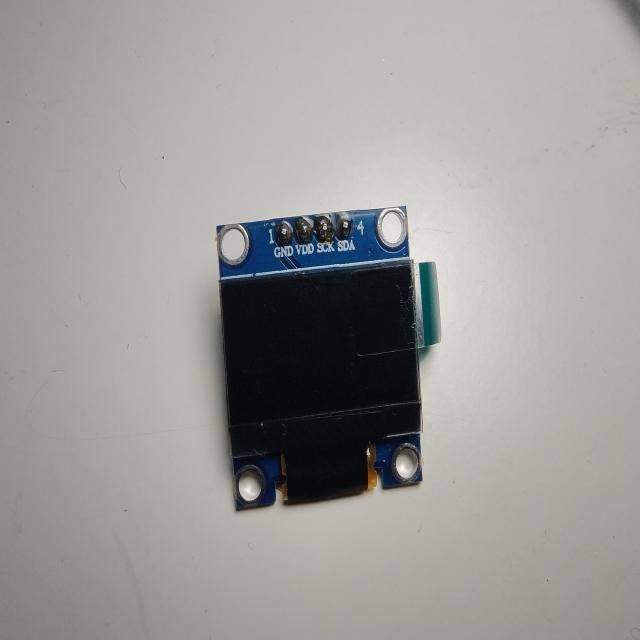oled: (207, 197, 459, 525)
